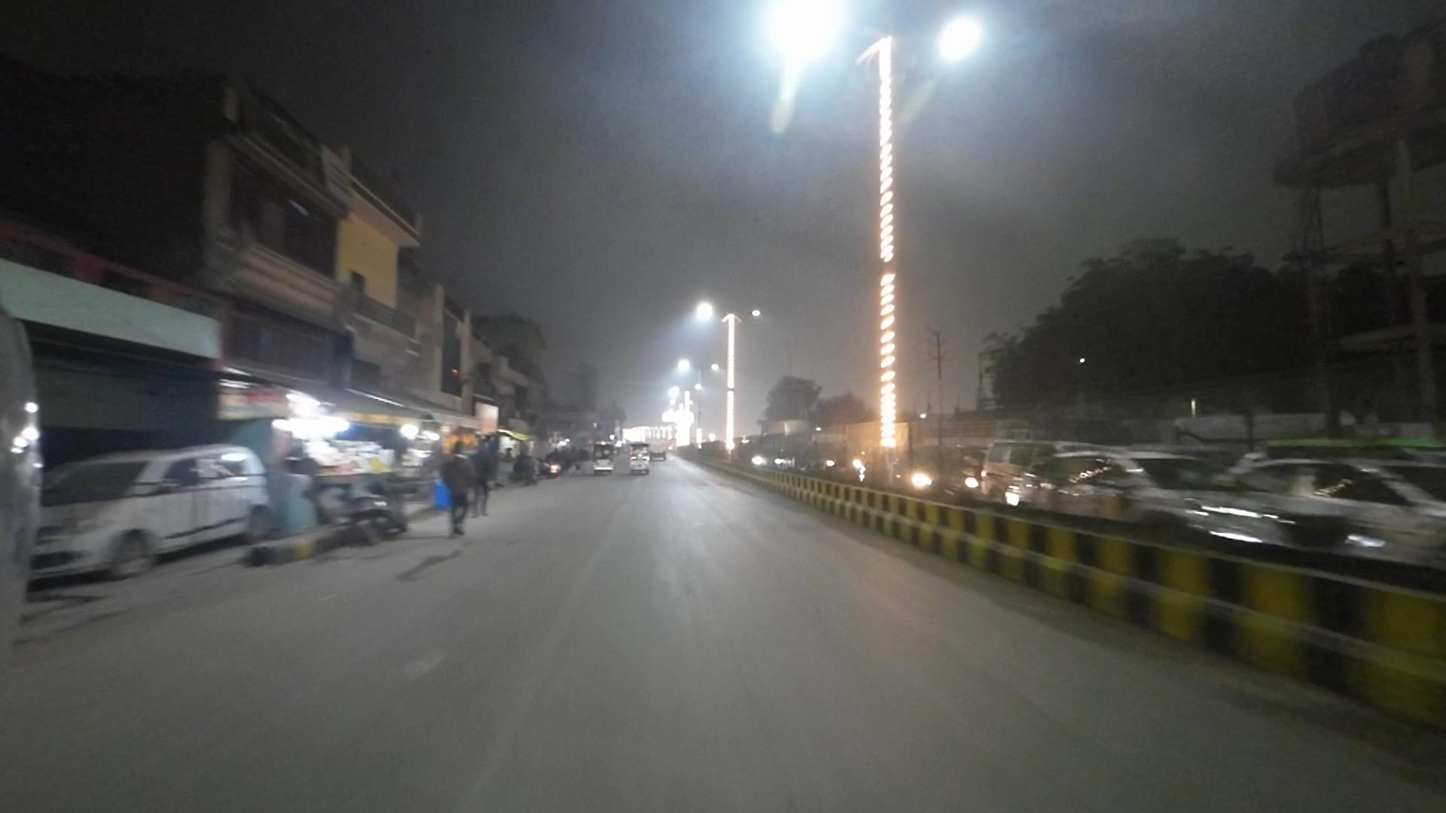streetlight: (737, 308, 762, 320)
